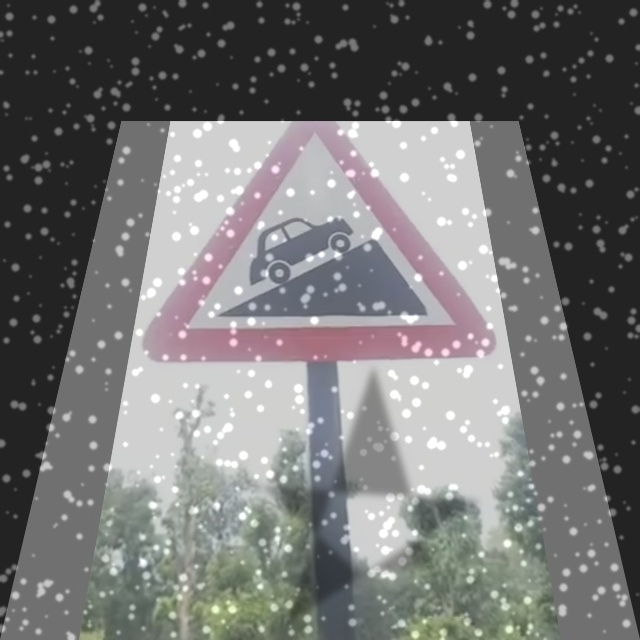Steep_Ascent: (173, 144, 464, 349)
